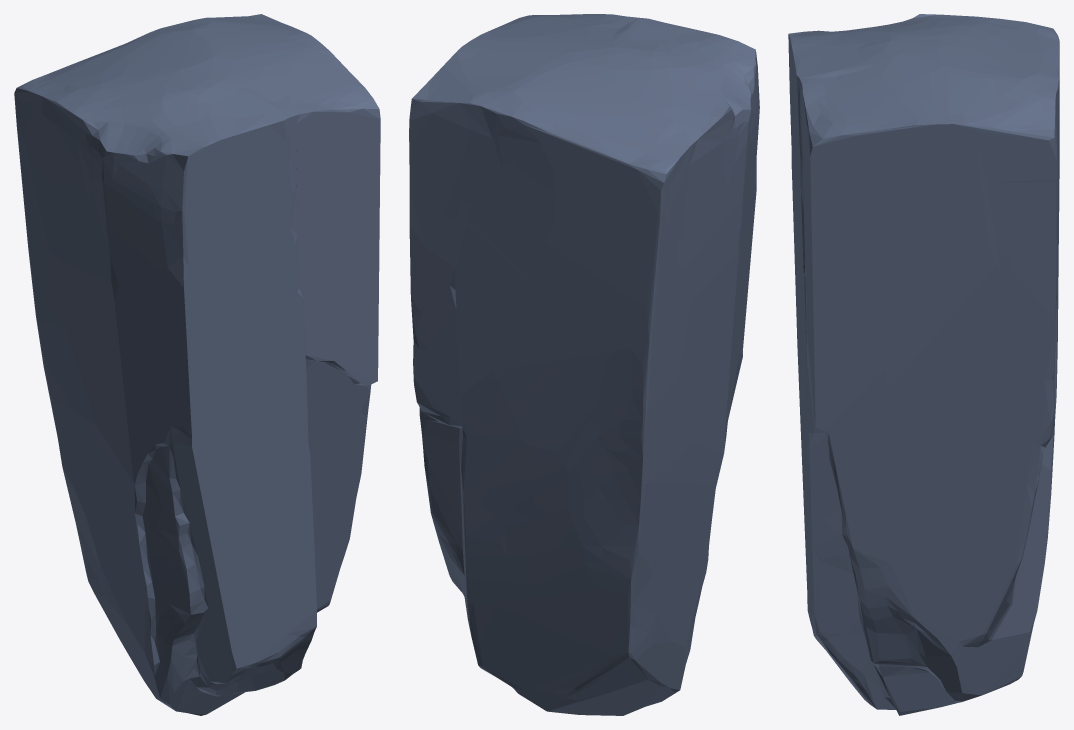
3 views of the same model, side by side, from view 1: azimuth 30°, elevation 25°; view 2: azimuth 150°, elevation 25°; view 3: azimuth 270°, elevation 25° (orthographic). The views are drawn at different scales.
Parts seen in each view (by area): view 1: SM_GF_Cliff_Detail_02_LOD0; view 2: SM_GF_Cliff_Detail_02_LOD0; view 3: SM_GF_Cliff_Detail_02_LOD0.
Part boxes in pixels (x1,y1,x2,y2): SM_GF_Cliff_Detail_02_LOD0: [14, 14, 380, 715]; SM_GF_Cliff_Detail_02_LOD0: [409, 14, 759, 715]; SM_GF_Cliff_Detail_02_LOD0: [788, 14, 1059, 715].
Size of the model in its own units: 6.18 by 15.24 by 5.72.
